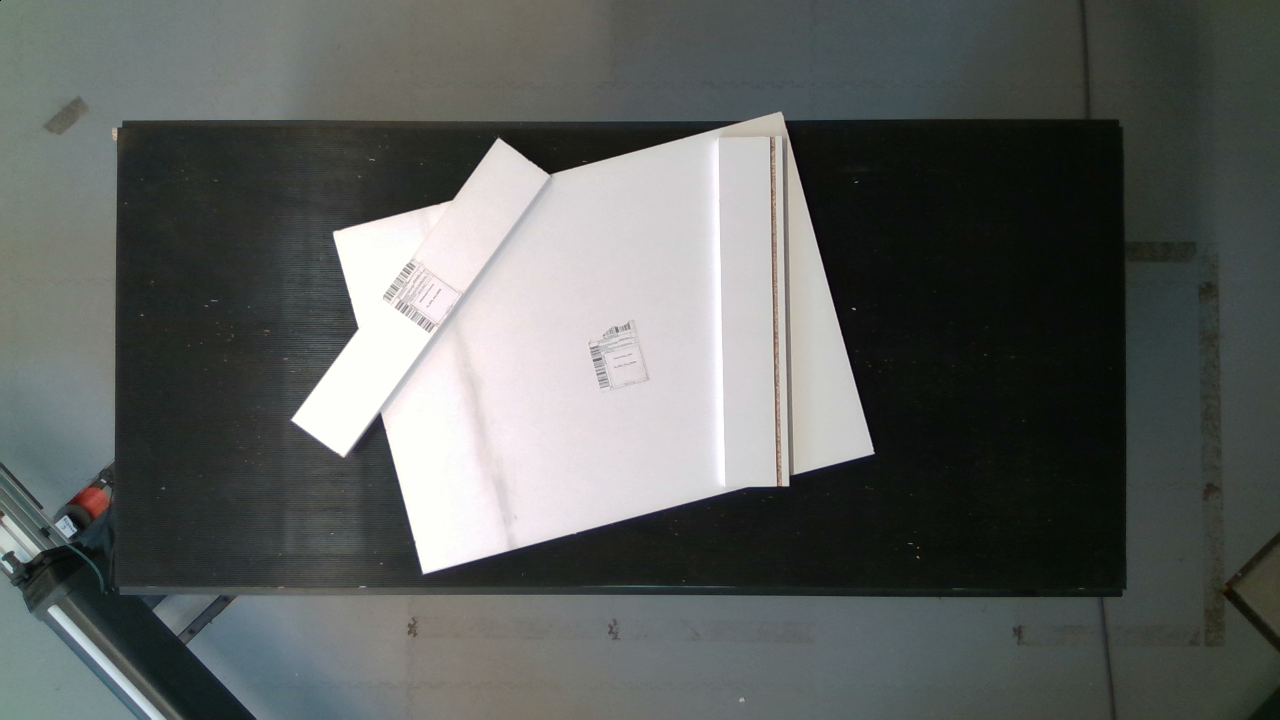barcode: (379, 242, 471, 338), (579, 311, 658, 406)
part1: (282, 127, 561, 461), (705, 121, 814, 504)
part2: (306, 109, 935, 588)
